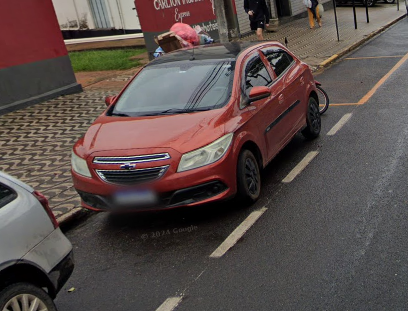car: (67, 34, 331, 228)
